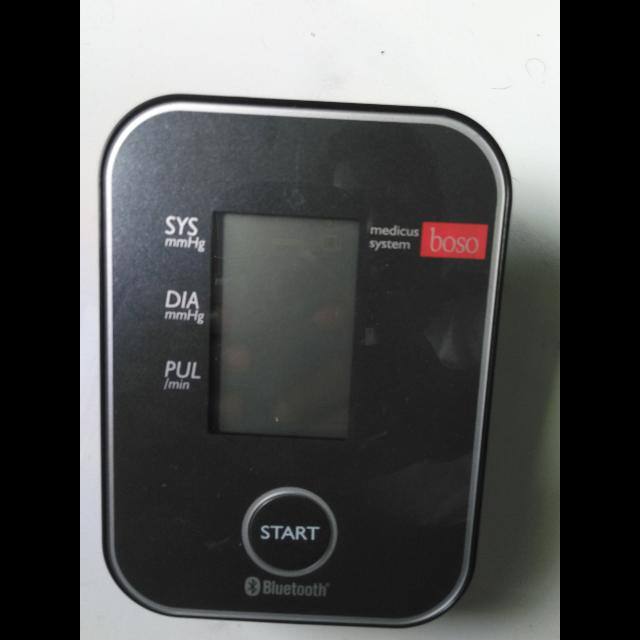Blood-Pressure-Monitor: (87, 96, 487, 640)
